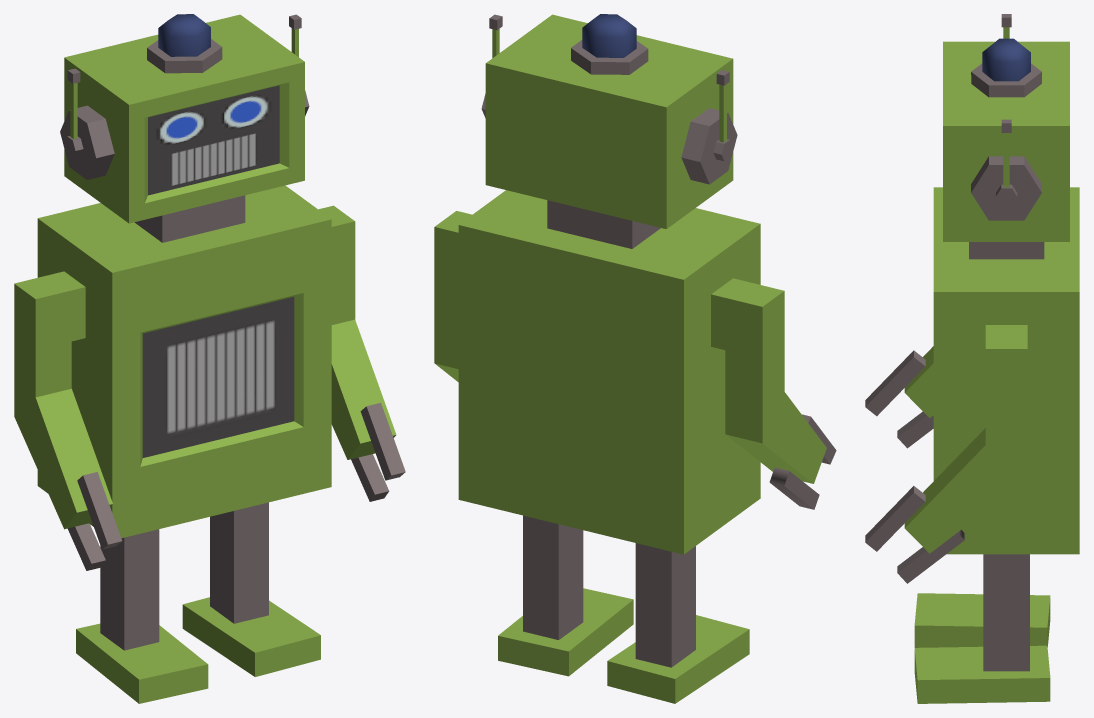
File: SM_Robot_1_05.fbx
3 renders of one model, left to right at view 1: azimuth 30°, elevation 25°; view 2: azimuth 150°, elevation 25°; view 3: azimuth 270°, elevation 25°, orthographic. The views are drawn at different scales.
Visible parts, largest first — view 1: M_Robot_9; view 2: M_Robot_9; view 3: M_Robot_9.
Boxes of the visible parts, x1,y1,x2,y2 form: M_Robot_9: [14, 14, 405, 703]; M_Robot_9: [434, 14, 836, 703]; M_Robot_9: [865, 14, 1079, 703].
Size of the model in its own units: 26.8 by 50.39 by 15.91.
